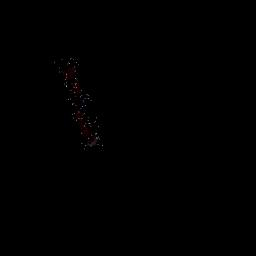boat: (54, 54, 106, 152)
